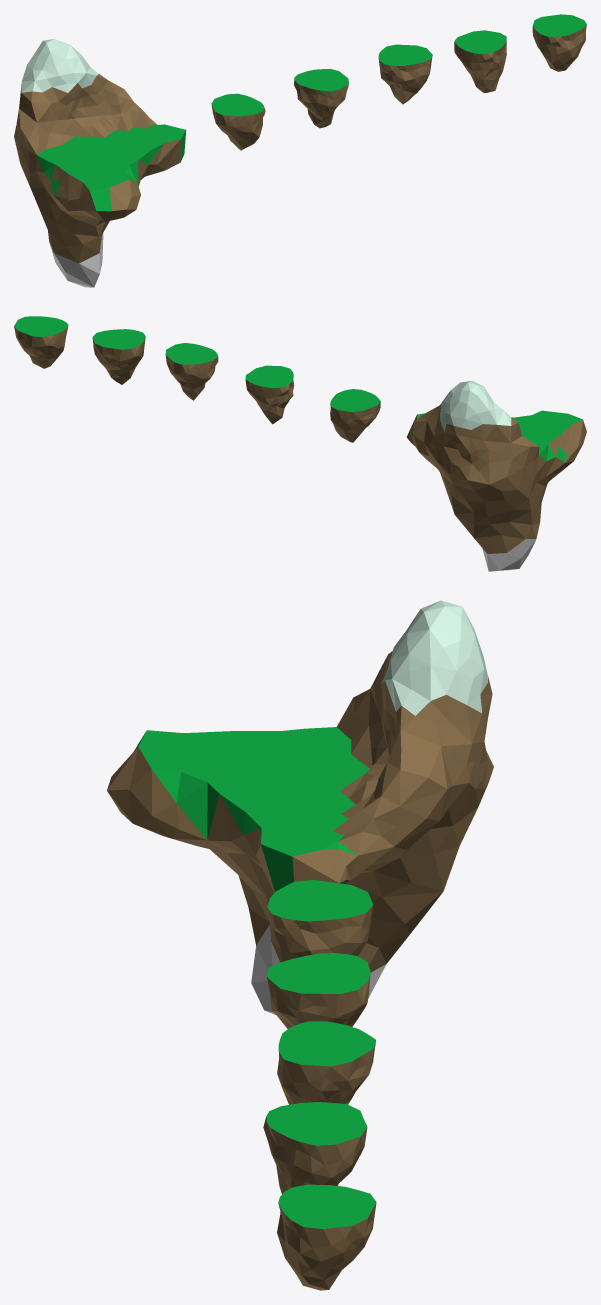
The model's file is Bridge_Fracture.fbx.
The picture shows the model from 3 angles, top to bottom: view 1: azimuth 30°, elevation 25°; view 2: azimuth 150°, elevation 25°; view 3: azimuth 270°, elevation 25°; orthographic projection. The views are drawn at different scales.
Parts seen in each view (by area): view 1: Rand03, Icosphere.001, Icosphere.002, Icosphere, Icosphere.004, Rand03_cell.035, Rand03_cell.041, Icosphere.003, Rand03_cell.005, Rand03_cell.009, Rand03_cell.015, Rand03_cell.031 (+8 smaller); view 2: Rand03, Rand03_cell.002, Icosphere, Icosphere.004, Icosphere.002, Icosphere.001, Icosphere.003, Rand03_cell.039, Rand03_cell.035, Rand03_cell.031, Rand03_cell.001, Rand03_cell.005 (+4 smaller); view 3: Rand03, Icosphere, Icosphere.002, Icosphere.001, Icosphere.003, Rand03_cell.003, Rand03_cell.041, Rand03_cell.021, Rand03_cell.015, Icosphere.004, Rand03_cell.043, Rand03_cell.035 (+12 smaller).
Boxes of the visible parts, left/top/right/bottom form: Rand03: left=16, top=39, right=186, bottom=287; Icosphere.001: left=454, top=30, right=506, bottom=92; Icosphere.002: left=378, top=44, right=432, bottom=104; Icosphere: left=532, top=14, right=586, bottom=71; Icosphere.004: left=211, top=94, right=264, bottom=150; Rand03_cell.035: left=26, top=145, right=89, bottom=200; Rand03_cell.041: left=20, top=106, right=115, bottom=161; Icosphere.003: left=294, top=69, right=348, bottom=128; Rand03_cell.005: left=40, top=209, right=95, bottom=265; Rand03_cell.009: left=24, top=81, right=78, bottom=146; Rand03_cell.015: left=116, top=136, right=182, bottom=181; Rand03_cell.031: left=14, top=80, right=62, bottom=144; Rand03: left=407, top=380, right=586, bottom=571; Rand03_cell.002: left=471, top=475, right=531, bottom=534; Icosphere: left=14, top=316, right=68, bottom=368; Icosphere.004: left=330, top=389, right=380, bottom=442; Icosphere.002: left=165, top=343, right=218, bottom=400; Icosphere.001: left=92, top=329, right=144, bottom=384; Icosphere.003: left=245, top=365, right=293, bottom=424; Rand03_cell.039: left=446, top=400, right=495, bottom=466; Rand03_cell.035: left=522, top=429, right=574, bottom=490; Rand03_cell.031: left=495, top=415, right=532, bottom=476; Rand03_cell.001: left=452, top=457, right=507, bottom=495; Rand03_cell.005: left=511, top=504, right=540, bottom=543; Rand03: left=107, top=600, right=493, bottom=1014; Icosphere: left=277, top=1184, right=376, bottom=1290; Icosphere.002: left=277, top=1021, right=375, bottom=1104; Icosphere.001: left=263, top=1102, right=367, bottom=1193; Icosphere.003: left=267, top=953, right=370, bottom=1028; Rand03_cell.003: left=127, top=761, right=207, bottom=843; Rand03_cell.041: left=258, top=722, right=395, bottom=802; Rand03_cell.021: left=270, top=802, right=376, bottom=891; Rand03_cell.015: left=218, top=780, right=331, bottom=892; Icosphere.004: left=267, top=880, right=373, bottom=953; Rand03_cell.043: left=434, top=727, right=486, bottom=854; Rand03_cell.035: left=204, top=708, right=347, bottom=761.
Bounding box in the file's own units: 10964 × 4196 × 3469.
